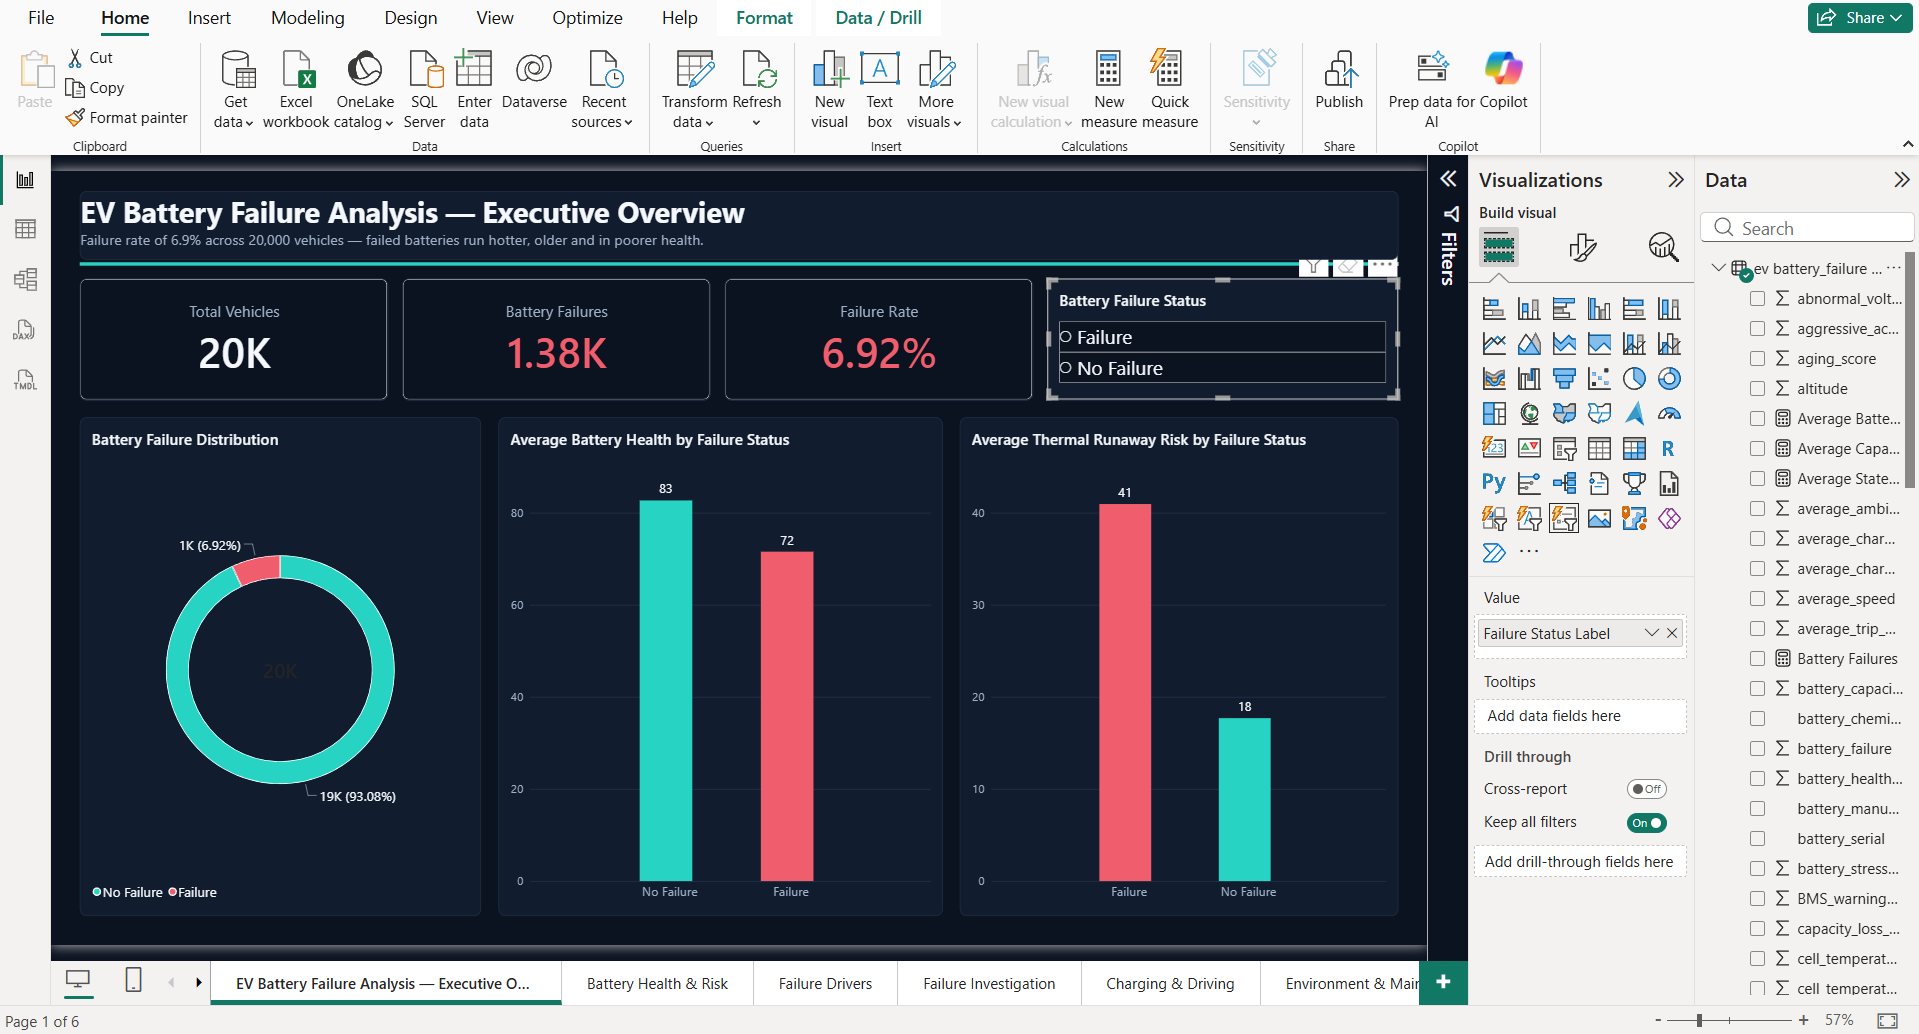

The page's visual inventory and layout, read from the dashboard file:
{"tool":"powerbi","page":{"name":"EV Battery Failure Analysis — Executive Overview","canvas":[1920,1080],"ordinal":0},"visuals":[{"type":"cardVisual","fields":{"Data":["ev battery_failure prediction Dataset.Failure Rate"]},"box":[940,150,430,170],"z":0},{"type":"textbox","box":[40,128,1840,5],"z":50},{"type":"cardVisual","fields":{"Data":["ev battery_failure prediction Dataset.Total Vehicles"]},"box":[40,150,430,170],"z":1000},{"type":"cardVisual","fields":{"Data":["ev battery_failure prediction Dataset.Battery Failures"]},"box":[490,150,430,170],"z":2000},{"type":"donutChart","title":"Battery Failure Distribution","fields":{"Category":["ev battery_failure prediction Dataset.Failure Status Label"],"Y":["ev battery_failure prediction Dataset.Total Vehicles"]},"box":[40,344,560,696],"z":3000},{"type":"clusteredColumnChart","title":"Average Battery Health by Failure Status","fields":{"Category":["ev battery_failure prediction Dataset.Failure Status Label"],"Y":["Avg(ev battery_failure prediction Dataset.battery_health_percent)"]},"box":[624,344,620,696],"z":3001},{"type":"clusteredColumnChart","title":"Average Thermal Runaway Risk by Failure Status","fields":{"Category":["ev battery_failure prediction Dataset.Failure Status Label"],"Y":["Avg(ev battery_failure prediction Dataset.thermal_runaway_risk)"]},"box":[1268,344,612,696],"z":3002},{"type":"listSlicer","title":"Battery Failure Status","fields":{"Values":["ev battery_failure prediction Dataset.Failure Status Label"]},"box":[1390,150,490,170],"z":3003},{"type":"textbox","box":[40,28,1840,96],"z":3004}]}

Visuals, with their boxes on the page's 1920x1080 design canvas (x1, y1, x2, y2). These are canvas units, not pixel positions in the 1919x1034 screenshot, which may show the page scaled, cropped or inside an application window:
cardVisual - ev battery_failure prediction Dataset.Failure Rate: {"x1": 940, "y1": 150, "x2": 1370, "y2": 320}
textbox: {"x1": 40, "y1": 128, "x2": 1880, "y2": 133}
cardVisual - ev battery_failure prediction Dataset.Total Vehicles: {"x1": 40, "y1": 150, "x2": 470, "y2": 320}
cardVisual - ev battery_failure prediction Dataset.Battery Failures: {"x1": 490, "y1": 150, "x2": 920, "y2": 320}
"Battery Failure Distribution" donutChart: {"x1": 40, "y1": 344, "x2": 600, "y2": 1040}
"Average Battery Health by Failure Status" clusteredColumnChart: {"x1": 624, "y1": 344, "x2": 1244, "y2": 1040}
"Average Thermal Runaway Risk by Failure Status" clusteredColumnChart: {"x1": 1268, "y1": 344, "x2": 1880, "y2": 1040}
"Battery Failure Status" listSlicer: {"x1": 1390, "y1": 150, "x2": 1880, "y2": 320}
textbox: {"x1": 40, "y1": 28, "x2": 1880, "y2": 124}
